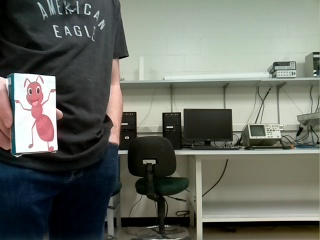Happy: (14, 75, 56, 151)
